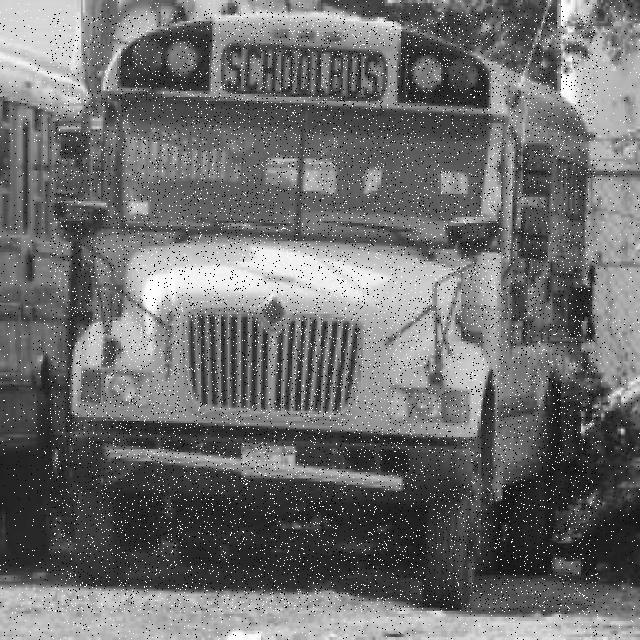Bus: (50, 11, 598, 612)
